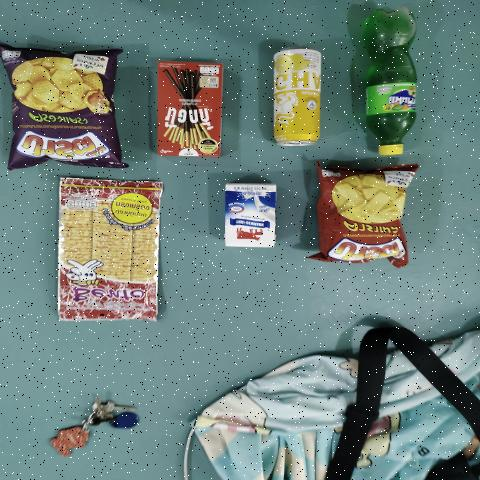bento_red: (59, 182, 163, 317)
fanta_green: (365, 9, 416, 157)
party_purple: (16, 52, 110, 159)
party_red: (323, 167, 402, 257)
pokki: (160, 62, 218, 154)
singha_yellow: (270, 48, 318, 146)
thai_denmark: (223, 182, 276, 248)
